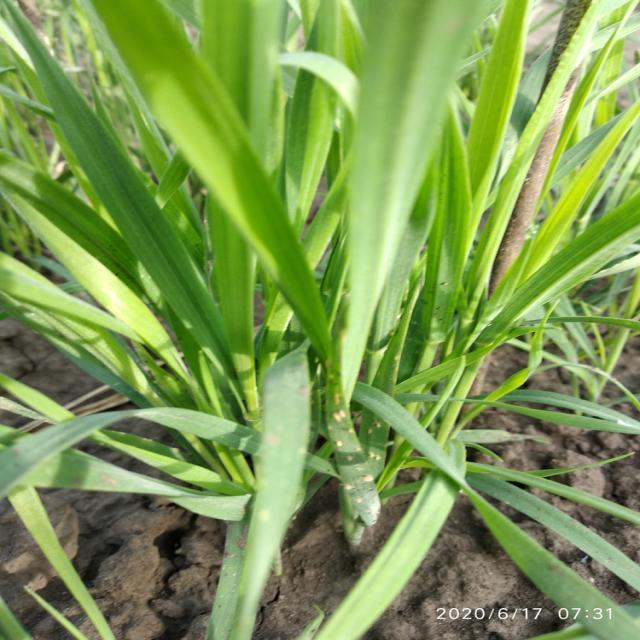wheat-powdery-mildew: (331, 352, 386, 526)
